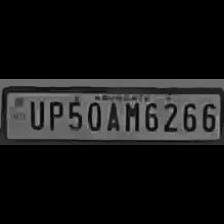0: (84, 97, 104, 130)
2: (160, 100, 178, 132)
5: (64, 97, 82, 131)
6: (140, 100, 158, 132), (199, 100, 217, 132), (179, 99, 197, 130)
A: (104, 98, 120, 132)
M: (122, 98, 140, 132)
P: (44, 97, 64, 130)
U: (25, 97, 45, 131)
